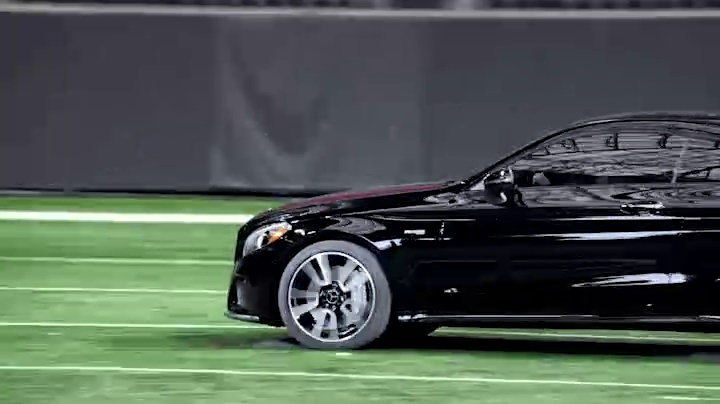amg: (227, 111, 720, 359)
